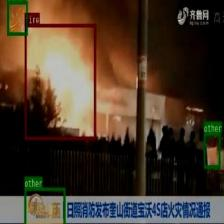fire: (24, 24, 96, 138)
